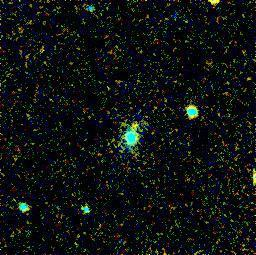star: (120, 108, 150, 138)
